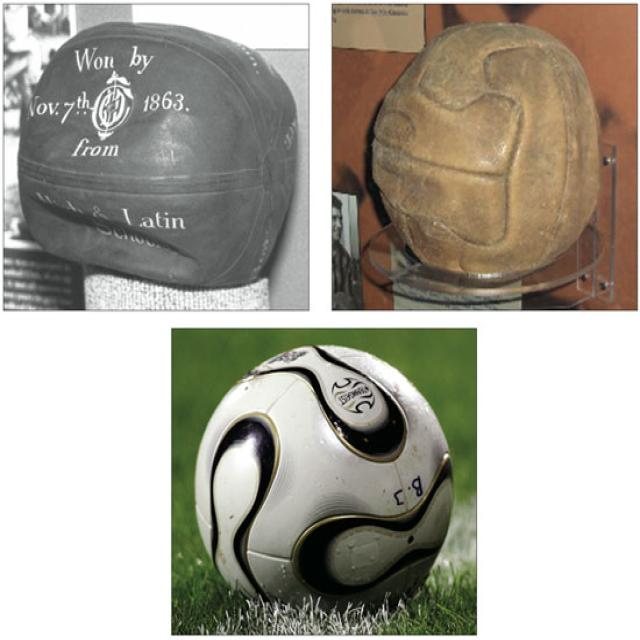soccer ball: (194, 343, 455, 615)
